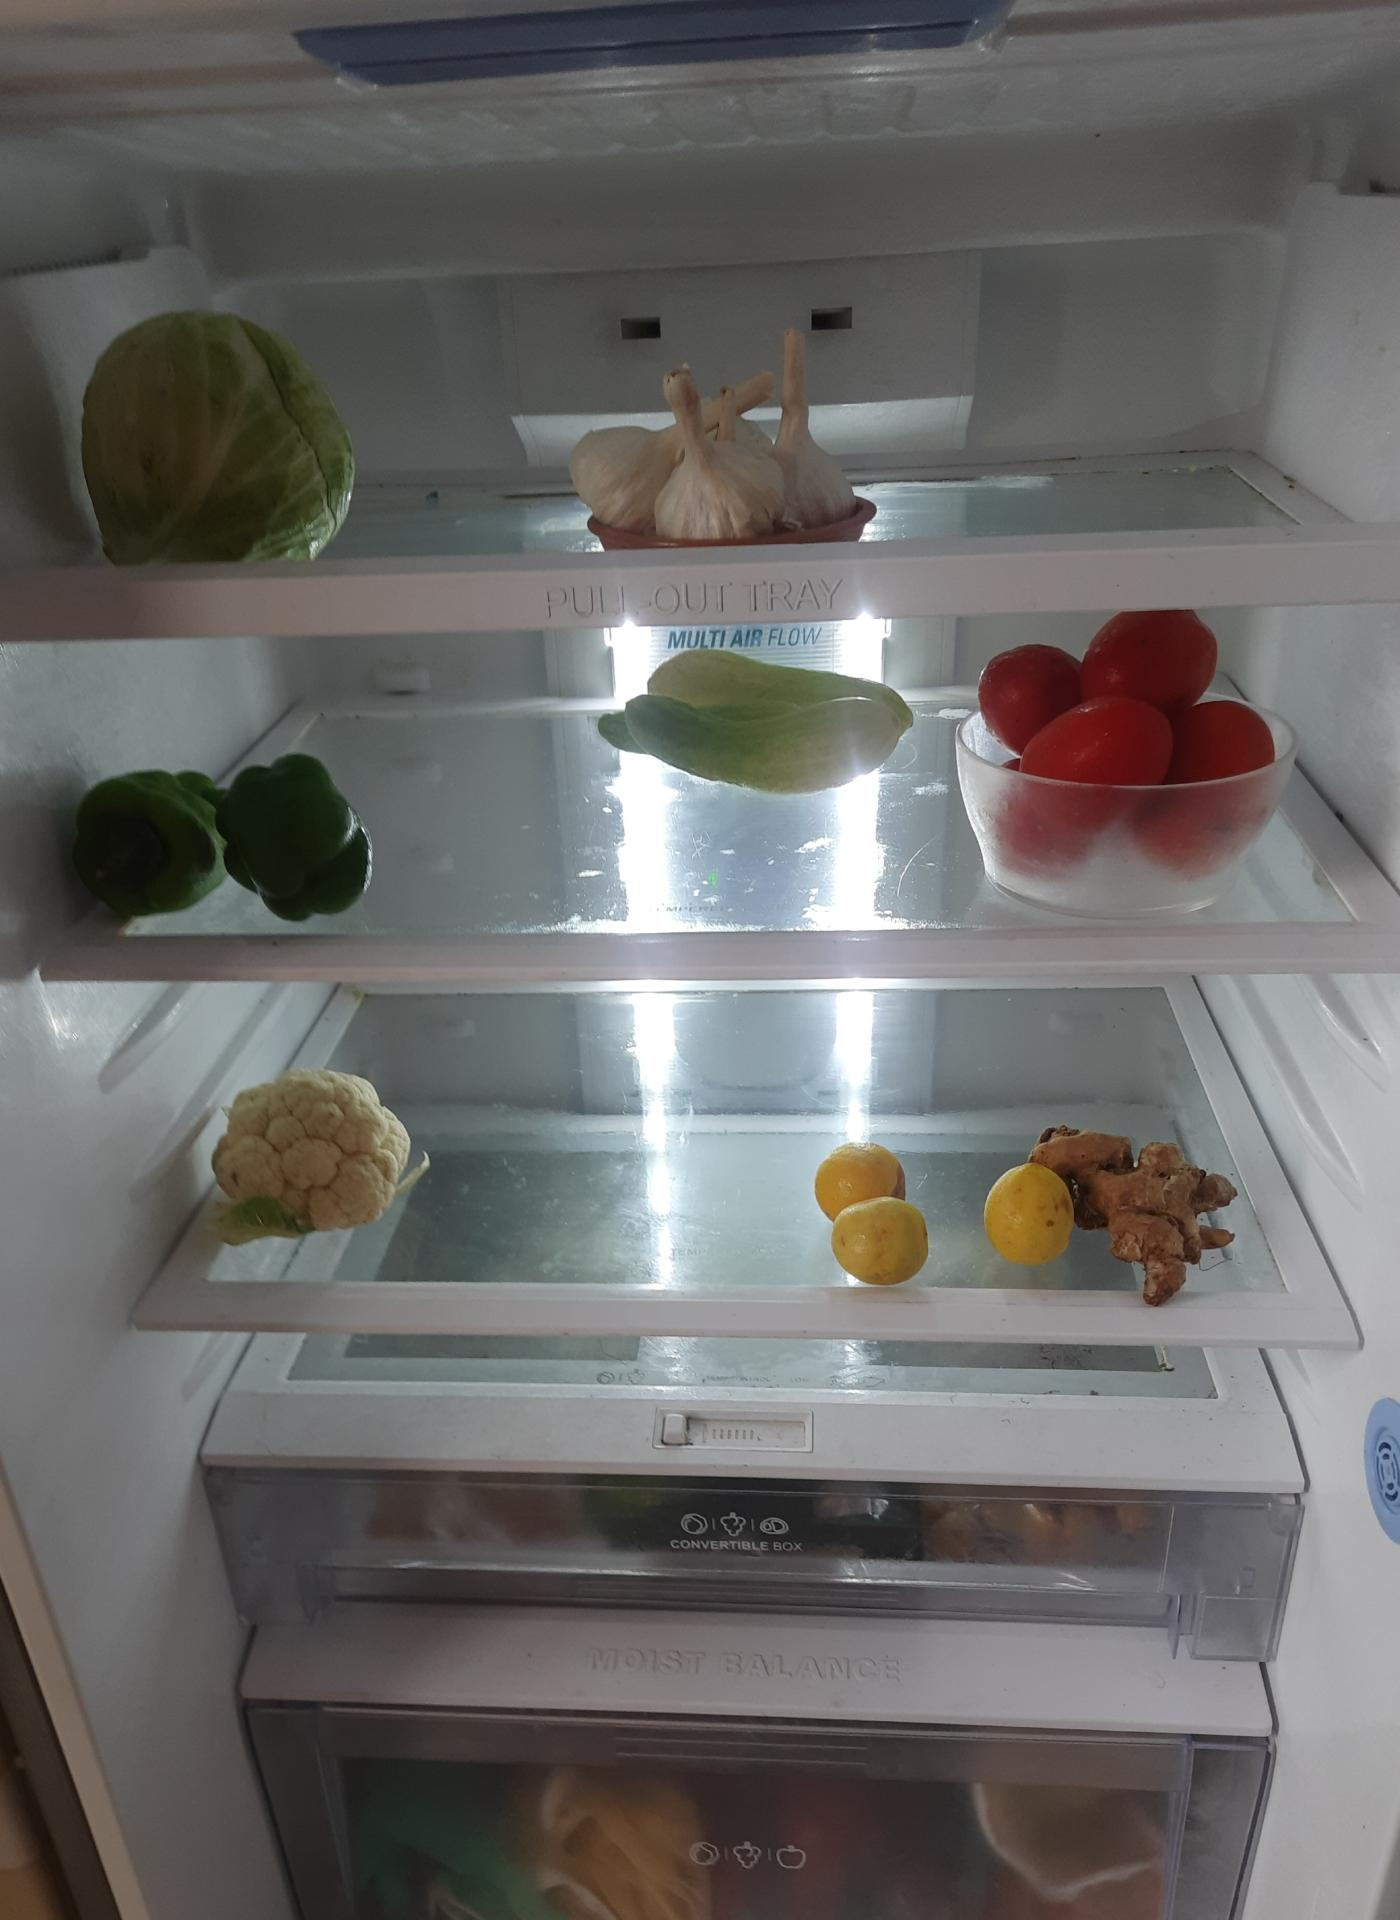cabbage: (73, 304, 361, 566)
capsicum: (58, 750, 364, 927)
cauliflower: (210, 1066, 414, 1246)
cucumber: (598, 642, 917, 784)
garlic: (570, 318, 862, 546)
ginger: (1041, 1124, 1242, 1286)
lemon: (817, 1137, 935, 1294), (981, 1151, 1076, 1267)
tomato: (972, 607, 1284, 877)
